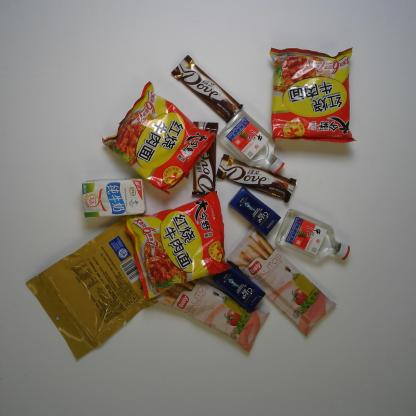Alcohol: (217, 109, 287, 173), (277, 209, 350, 264)
Chocolate: (172, 54, 240, 118), (217, 153, 297, 202), (190, 119, 214, 194)
Dessert: (226, 226, 335, 337), (156, 271, 267, 352)
Dried Fruit: (25, 218, 159, 363)
Instant Noodles: (98, 78, 214, 195), (124, 191, 236, 299), (268, 42, 357, 146)
Milk: (81, 177, 148, 217)
Personal Hygiene: (214, 257, 266, 311), (229, 184, 281, 236)
